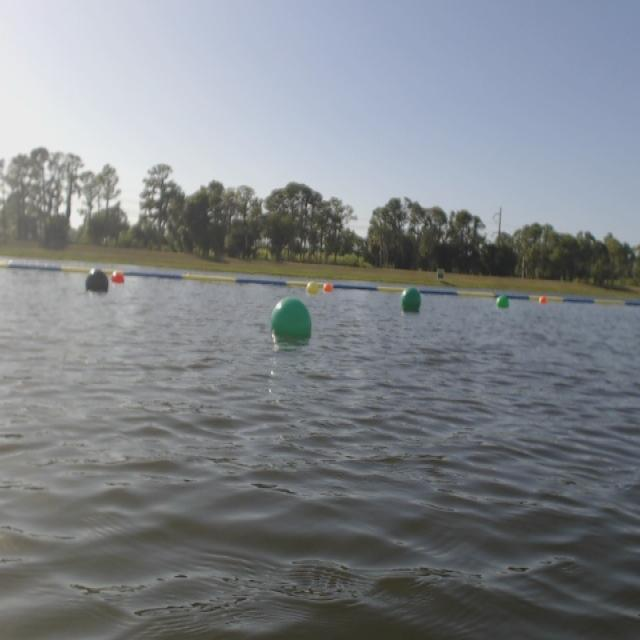Black_Buoy: (86, 262, 106, 293)
Green_Buoy: (270, 297, 312, 344), (403, 289, 428, 313), (489, 292, 511, 313)
Orange__Buoy: (112, 269, 130, 284), (324, 276, 336, 292), (539, 290, 550, 305)
